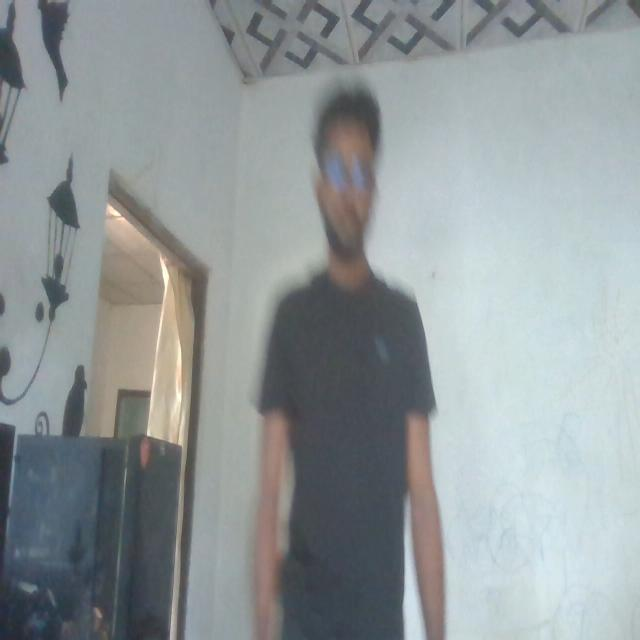Person: (252, 65, 436, 640)
